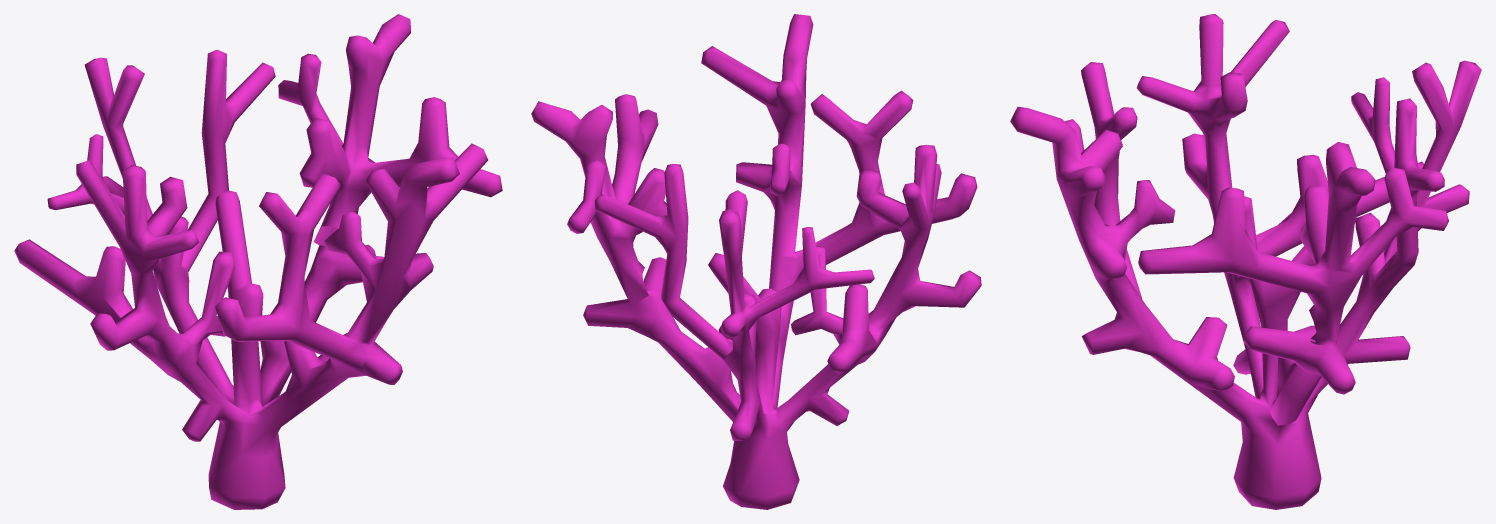
File: Hub_koralle.gltf
3 renders of one model, left to right at view 1: azimuth 30°, elevation 25°; view 2: azimuth 150°, elevation 25°; view 3: azimuth 270°, elevation 25°, orthographic. The views are drawn at different scales.
Parts seen in each view (by area): view 1: Hub_koralle; view 2: Hub_koralle; view 3: Hub_koralle.
Boxes of the visible parts, bbox=[...] form: Hub_koralle: bbox=[14, 14, 502, 509]; Hub_koralle: bbox=[531, 14, 981, 509]; Hub_koralle: bbox=[1010, 14, 1481, 509].
Size of the model in its own units: 8.45 by 8.41 by 8.31.
